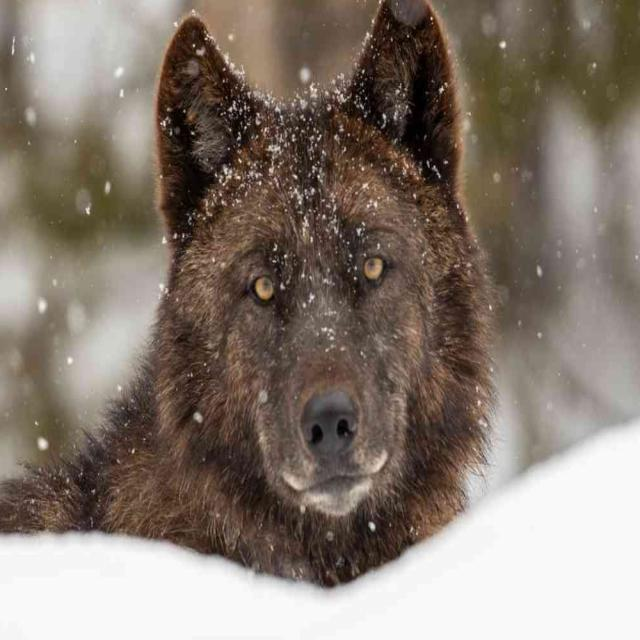wolf: (0, 0, 522, 599)
